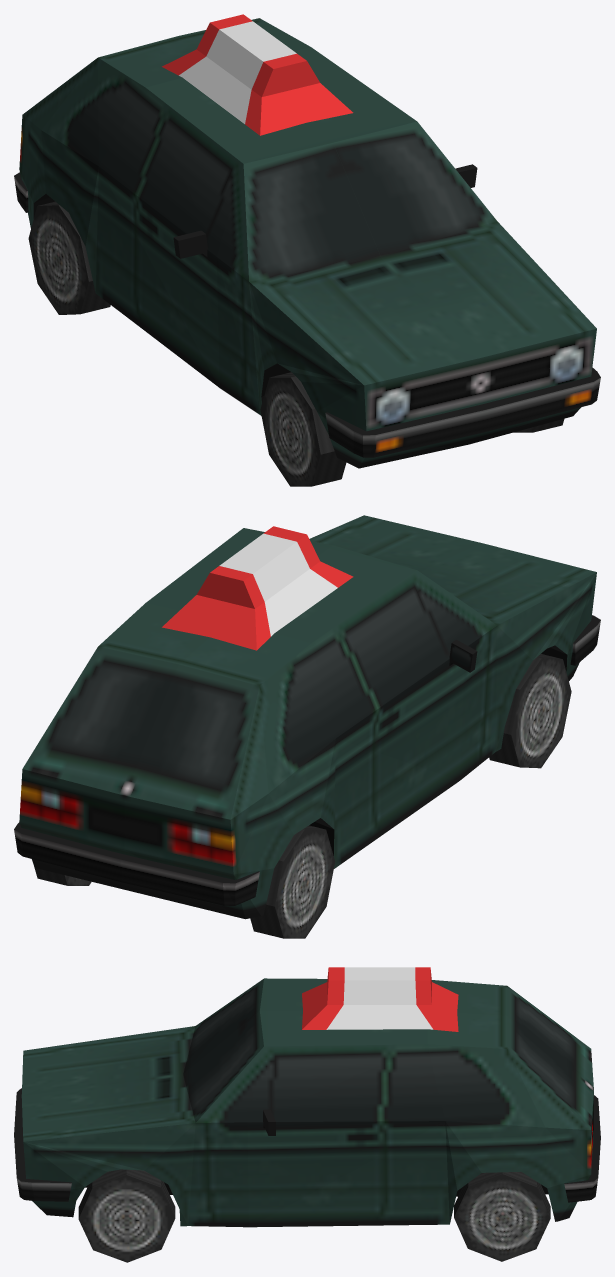
Rendered from pizzaCar.fbx.
The picture shows the model from 3 angles, top to bottom: view 1: azimuth 30°, elevation 25°; view 2: azimuth 150°, elevation 25°; view 3: azimuth 270°, elevation 25°; orthographic projection. The views are drawn at different scales.
Parts seen in each view (by area): view 1: Car3, Cube, Cube.002, Cube.001; view 2: Car3, Cube.001, Cube, Cube.002; view 3: Car3, Cube, Cube.001, Cube.002.
Boxes of the visible parts, x1=… form: Car3: x1=14, y1=18, x2=600, y2=486; Cube: x1=179, y1=21, x2=296, y2=123; Cube.002: x1=245, y1=53, x2=353, y2=135; Cube.001: x1=162, y1=14, x2=252, y2=75; Car3: x1=14, y1=515, x2=600, y2=938; Cube.001: x1=162, y1=566, x2=270, y2=650; Cube: x1=219, y1=533, x2=337, y2=636; Cube.002: x1=263, y1=526, x2=353, y2=587; Car3: x1=14, y1=978, x2=600, y2=1262; Cube: x1=326, y1=967, x2=433, y2=1029; Cube.001: x1=415, y1=967, x2=458, y2=1031; Cube.002: x1=302, y1=967, x2=344, y2=1029.
Bounding box in the file's own units: 265 × 253 × 561.
